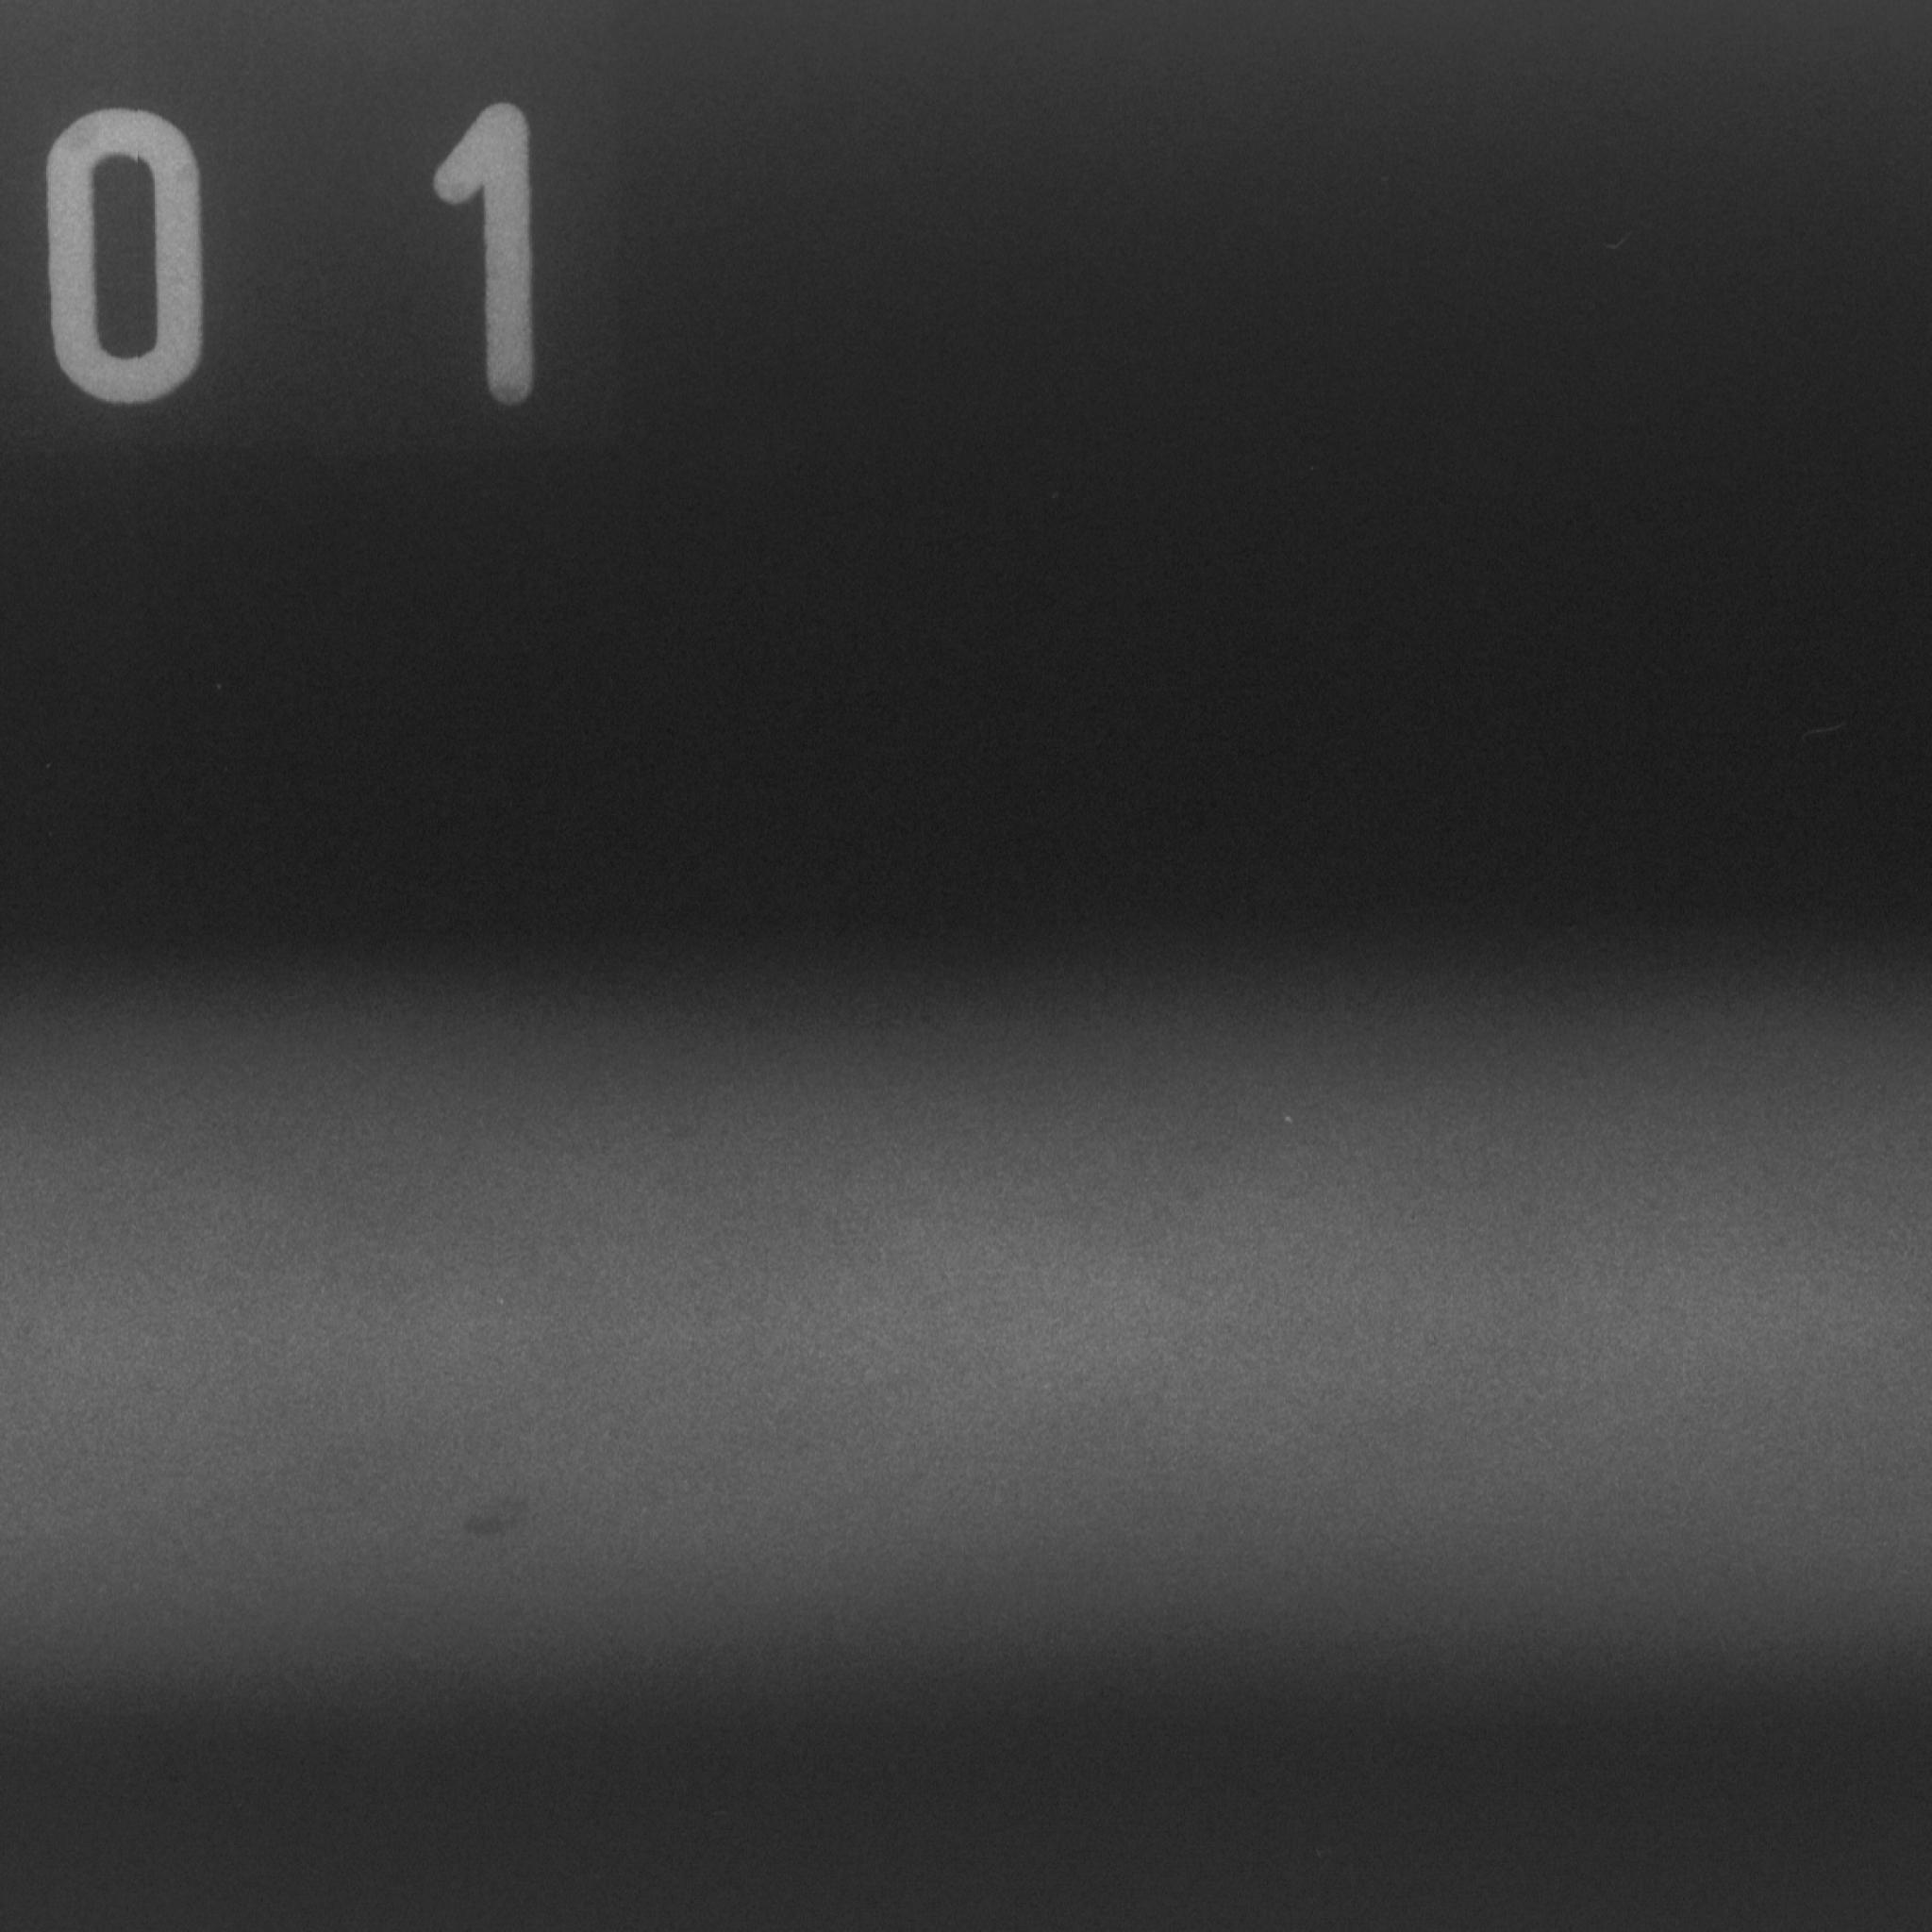PO: (436, 1468, 555, 1568)
